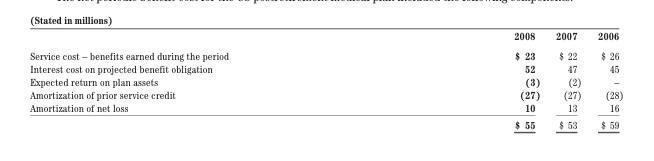table: (29, 28, 622, 129)
table column: (29, 28, 370, 129), (370, 28, 547, 129), (547, 28, 588, 129), (588, 28, 622, 129)
table column header: (29, 28, 622, 45)
table row: (29, 28, 622, 45), (29, 45, 622, 61), (29, 100, 622, 115), (29, 115, 622, 129), (29, 61, 622, 74), (29, 74, 622, 87), (29, 87, 622, 100)
